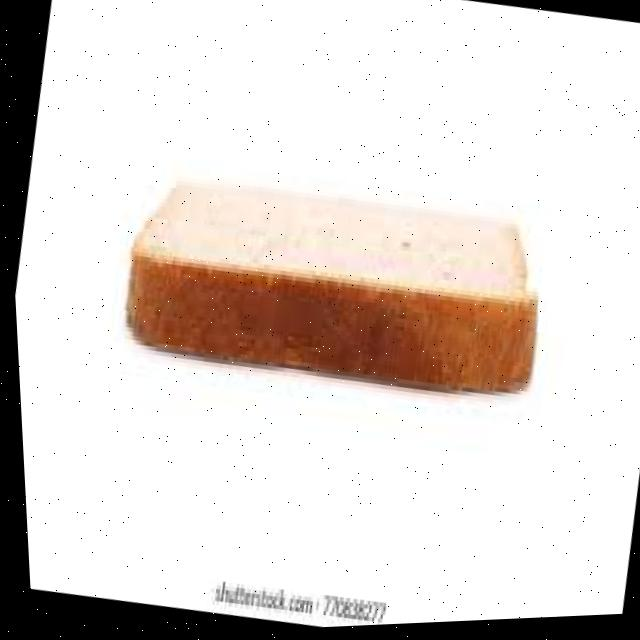Bread: (124, 184, 533, 394)
